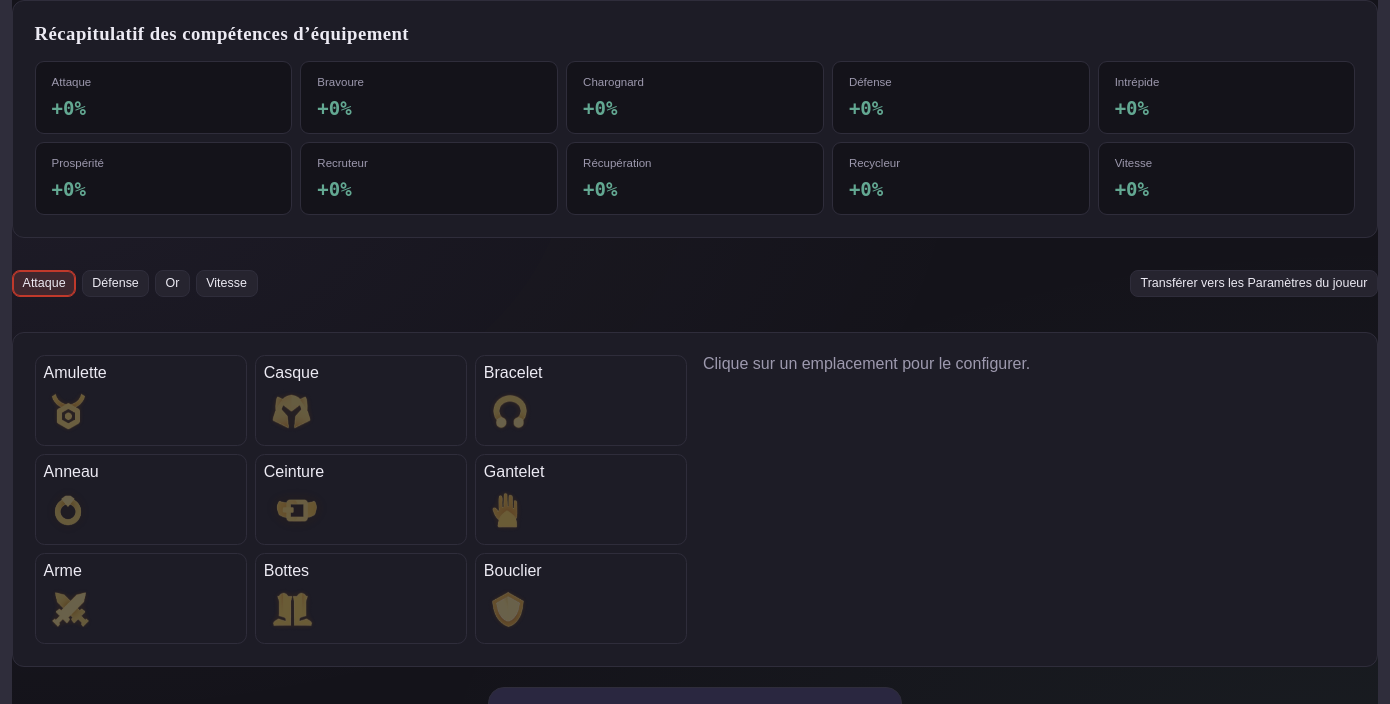
Scenario: equipment tools › lays a configured cell out with the image+star on the left and the gems stacked in a column on the right (Bloc 73/D, replaces Bloc 32/D.1's single stacked line)
The image size is (1390, 704).
Click the button "Amulette".
click(141, 400)  # box [35, 354, 247, 446]
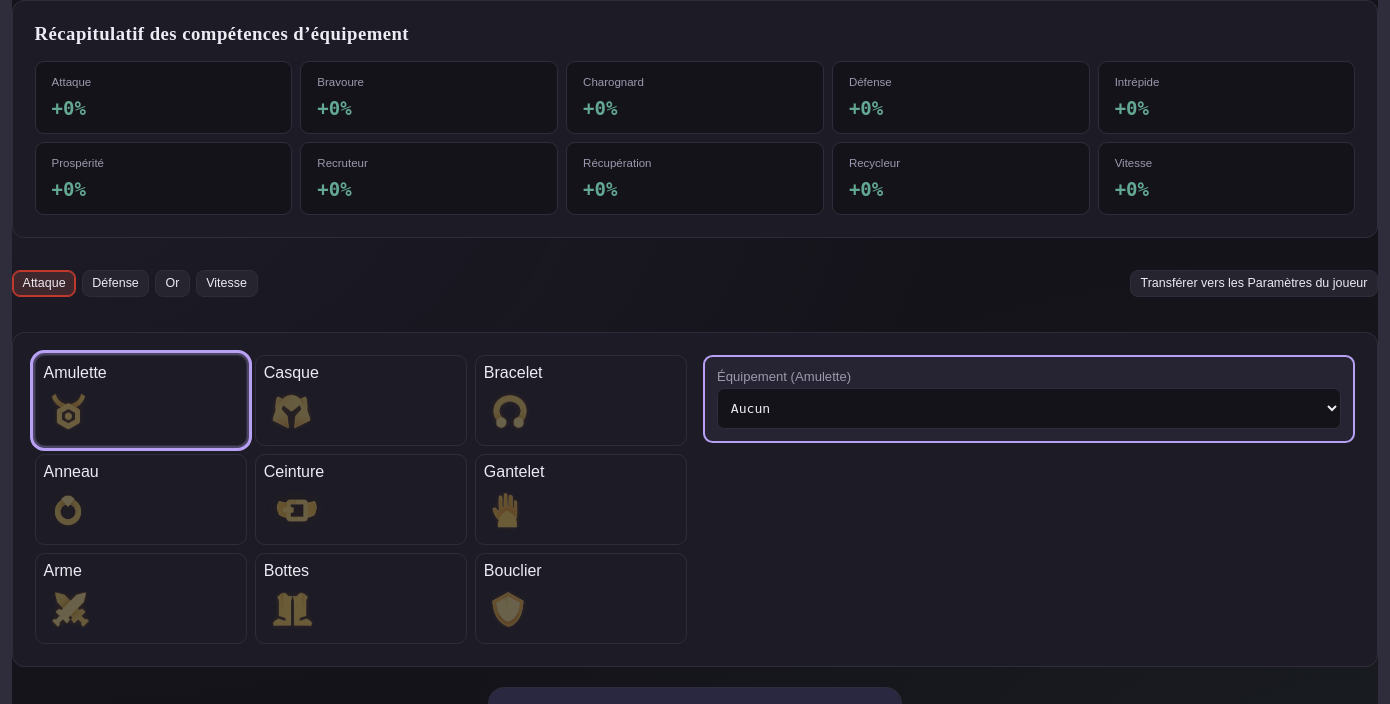
Select "Légendaire — Spirit Fyra (Attaque)" in the dropdown named "Équipement Attaque Amulette" at (1029, 409), box [717, 388, 1341, 429]
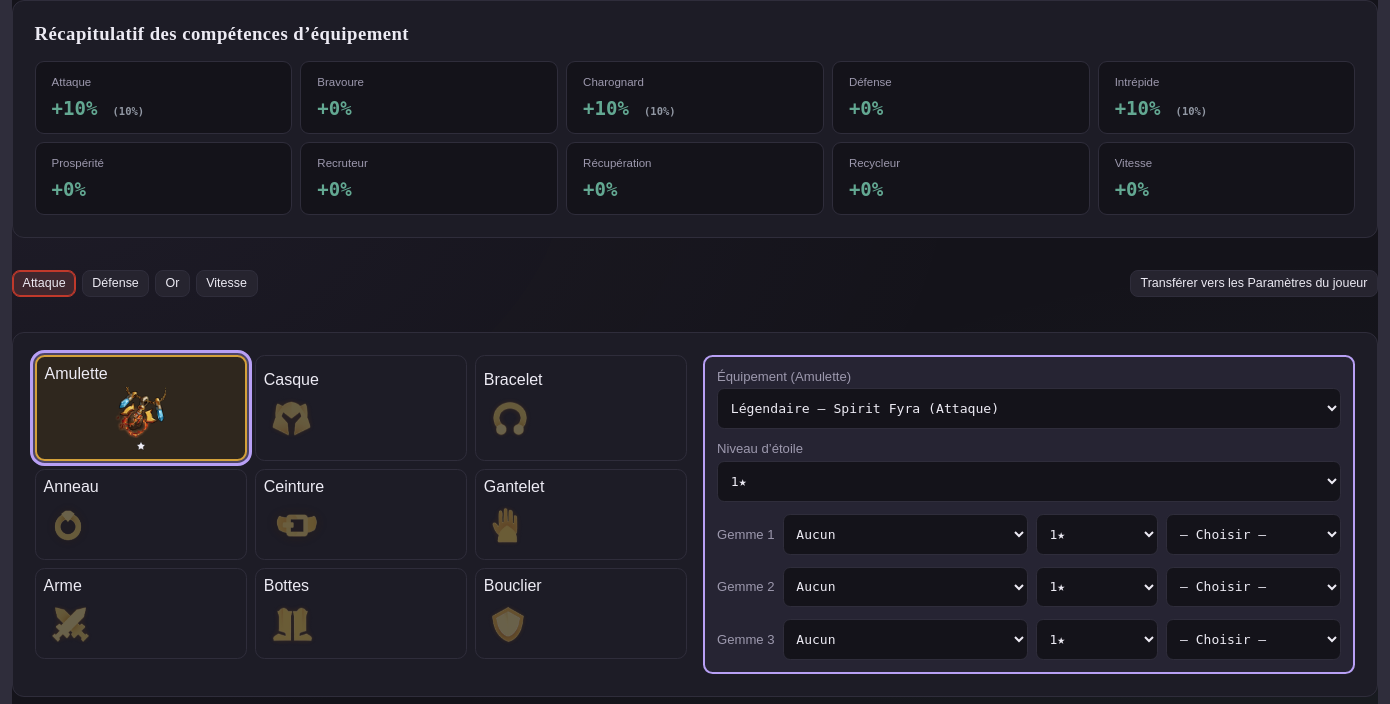
Expected: the 1st picture with class "stuff-slot-image" is shown, [115, 386, 166, 438]
Expected: the element with class "stuff-slot-layout" is shown, [115, 386, 166, 451]
Expected: the picture with class "star-rating" is shown, [136, 441, 146, 451]
Select "Attaque" in the dropdown named "Compétence gemme 1" at (905, 534), box [783, 514, 1028, 554]
Select "Légende" in the dropdown named "Ligue gemme 1" at (1254, 534), box [1166, 514, 1341, 554]
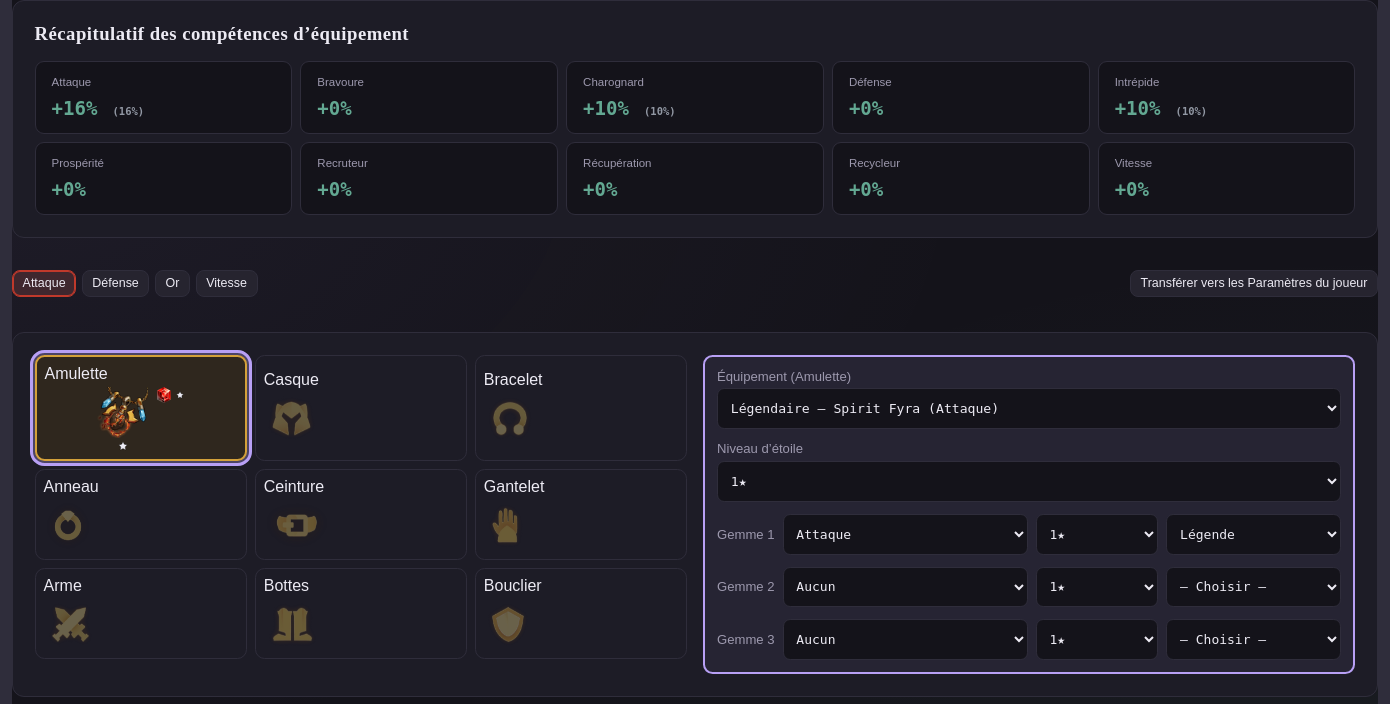
Select "Charognard" in the dropdown named "Compétence gemme 2" at (905, 587), box [783, 566, 1028, 607]
Select "Légende" in the dropdown named "Ligue gemme 2" at (1254, 587), box [1166, 566, 1341, 607]
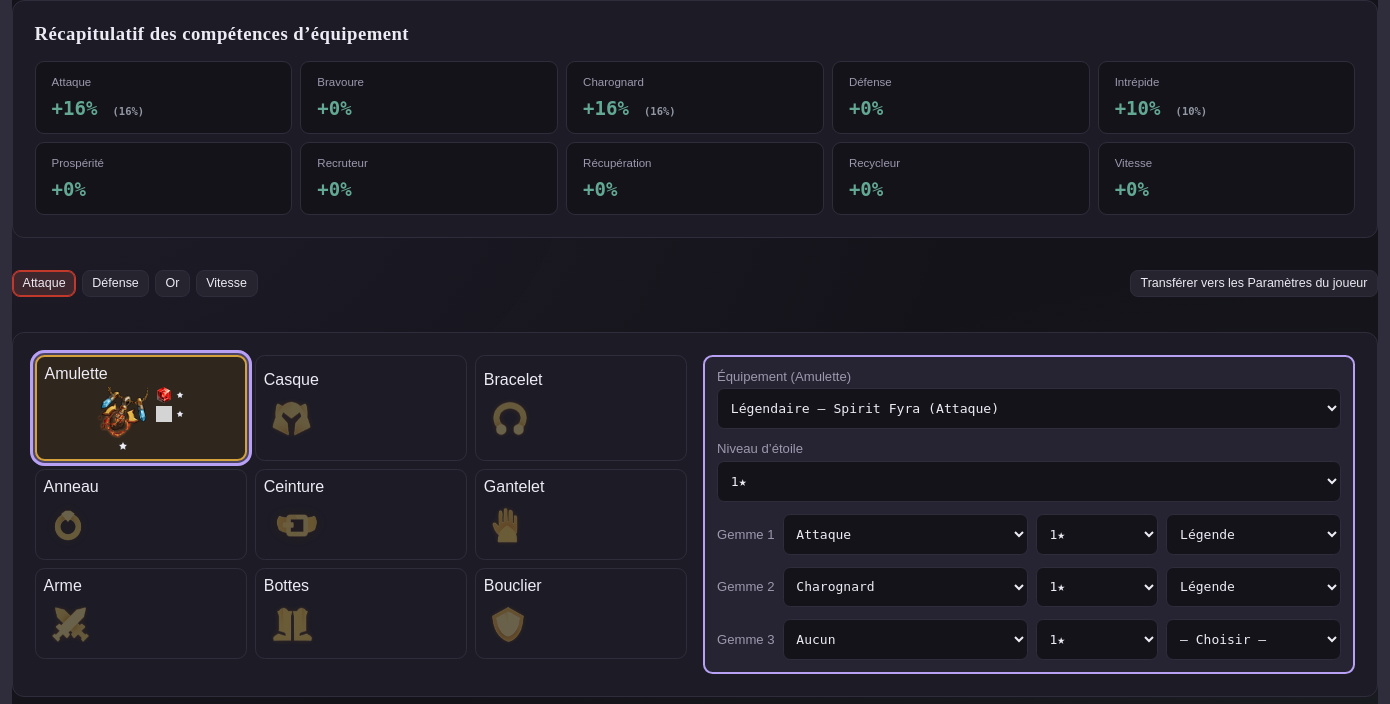
Select "Intrépide" in the dropdown named "Compétence gemme 3" at (905, 640), box [783, 619, 1028, 660]
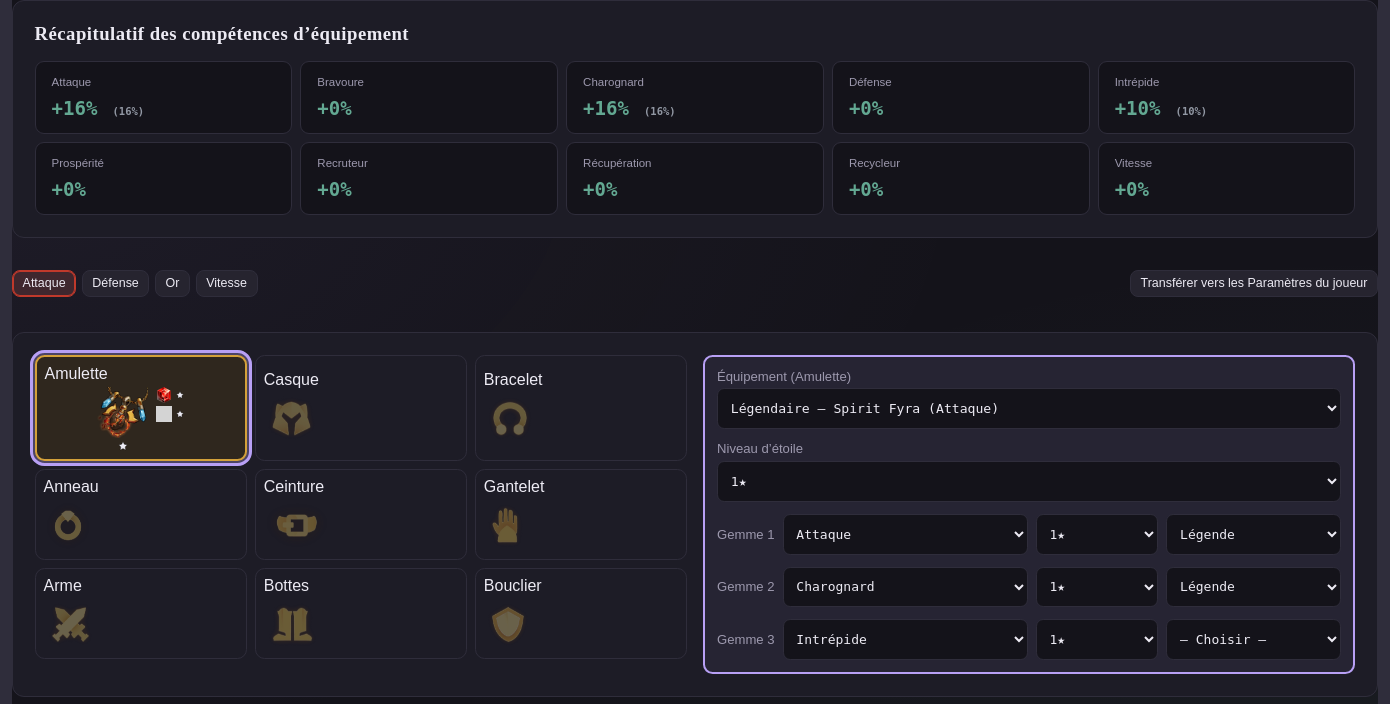
Select "Légende" in the dropdown named "Ligue gemme 3" at (1254, 640), box [1166, 619, 1341, 660]
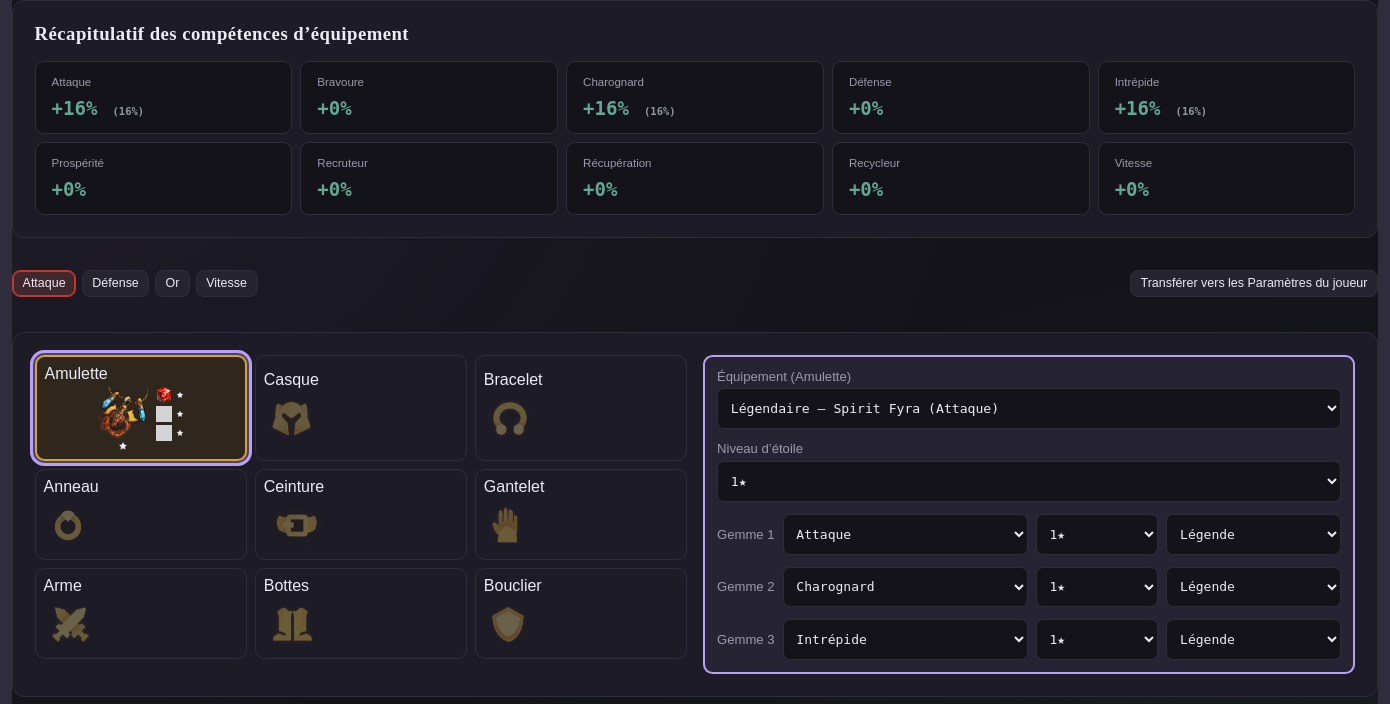
Expected: the element with class "stuff-slot-gems" is shown, [156, 386, 184, 441]
Expected: the 3rd picture with class "star-rating" is shown, [176, 429, 184, 437]
